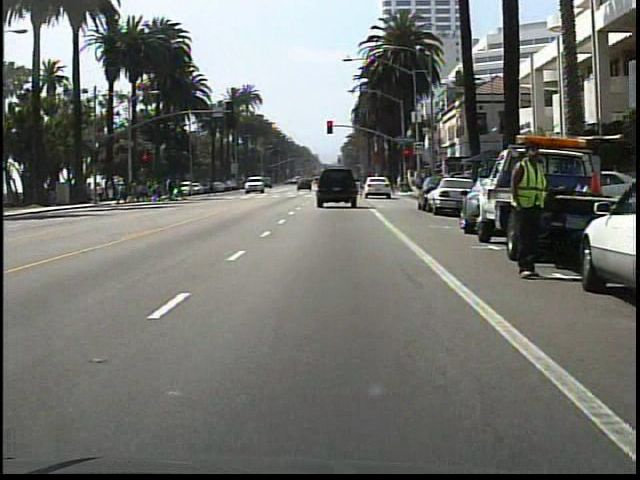person: (499, 135, 550, 280), (201, 172, 221, 201)
